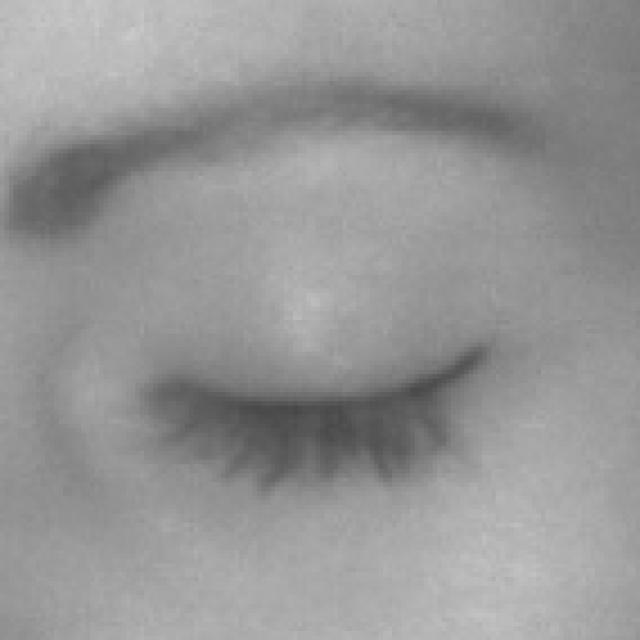close: (0, 46, 640, 561)
